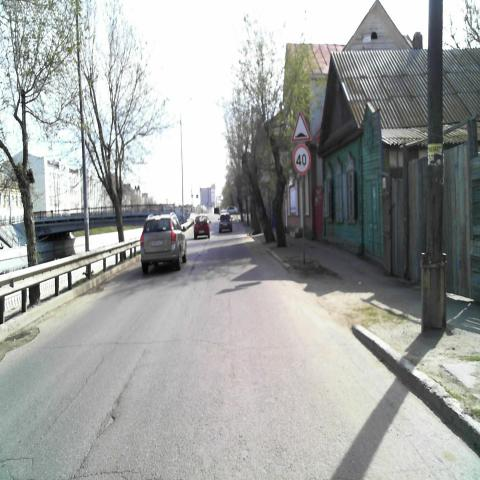1_17: (292, 112, 310, 141)
